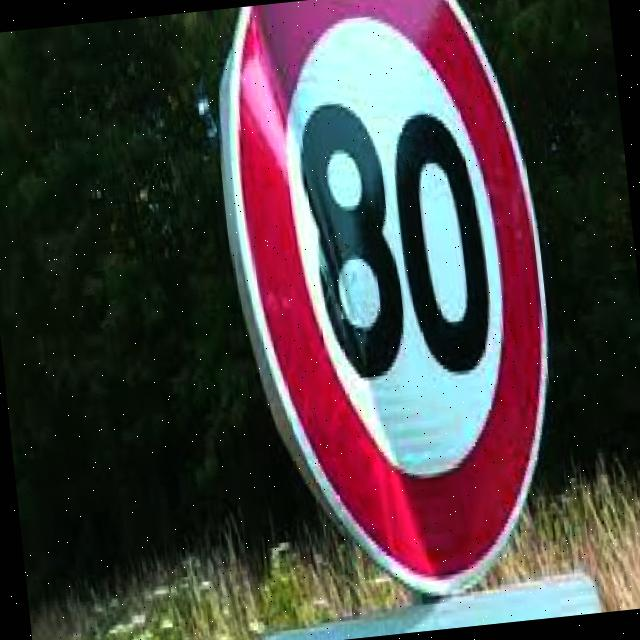Ograniczenie predkosci do 80: (257, 27, 530, 483)
